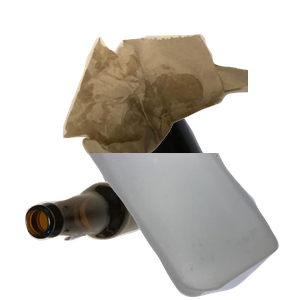glass: (23, 179, 183, 300)
metal: (69, 58, 300, 238)
plastic: (84, 153, 300, 300)
trash: (60, 31, 300, 189)
